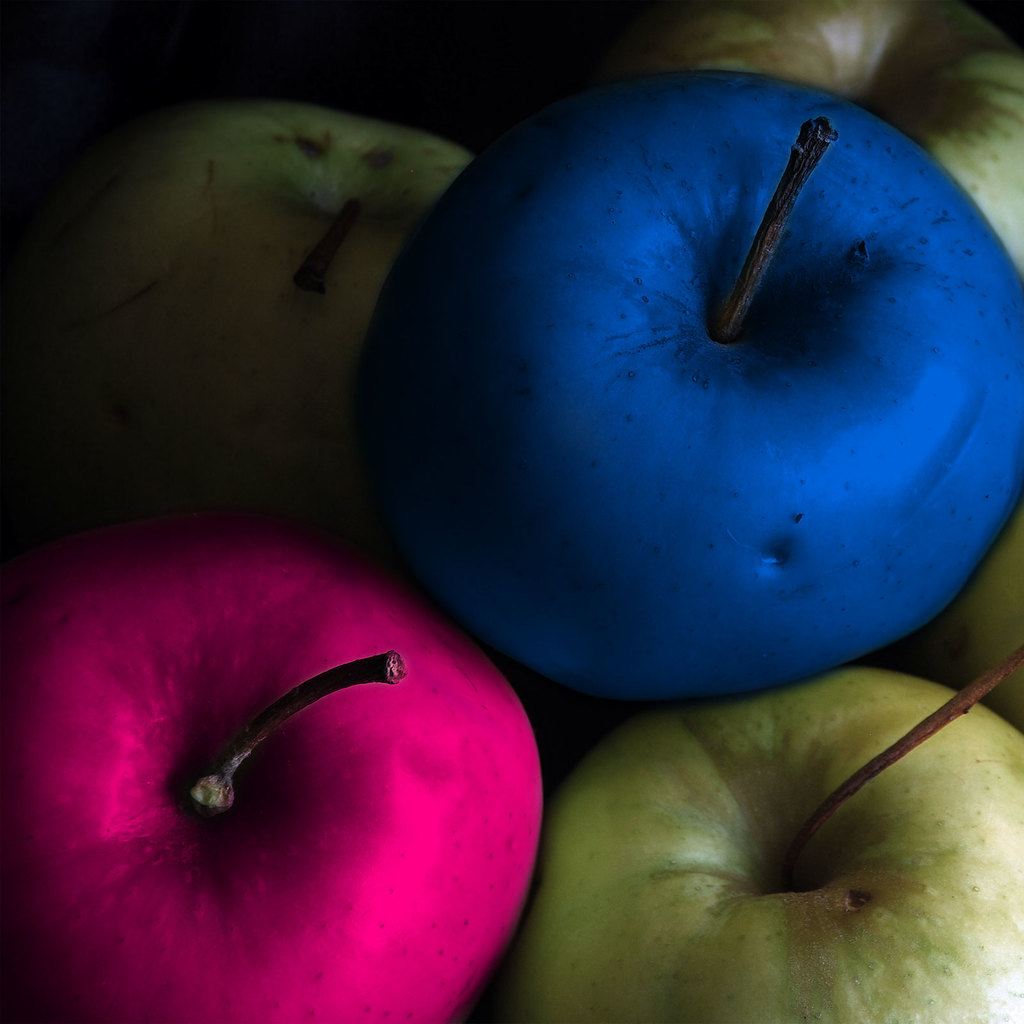Apple: (346, 87, 1024, 734), (0, 515, 551, 1023), (0, 92, 472, 522), (509, 664, 1023, 1023), (614, 0, 1023, 277), (876, 512, 1023, 721)
